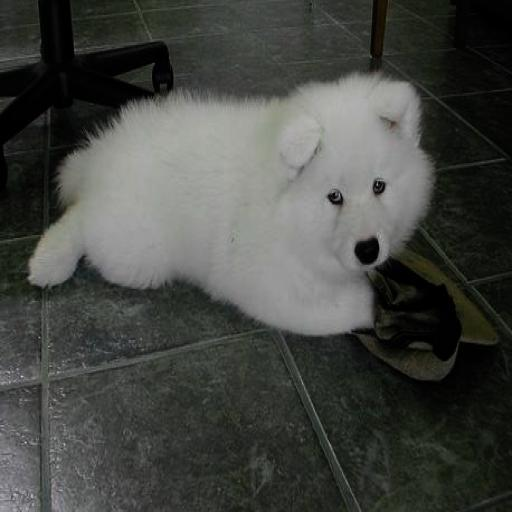dog_face: (279, 79, 440, 276)
